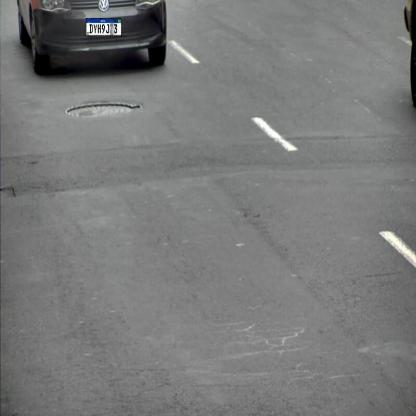PlacaM: (86, 18, 122, 36)
